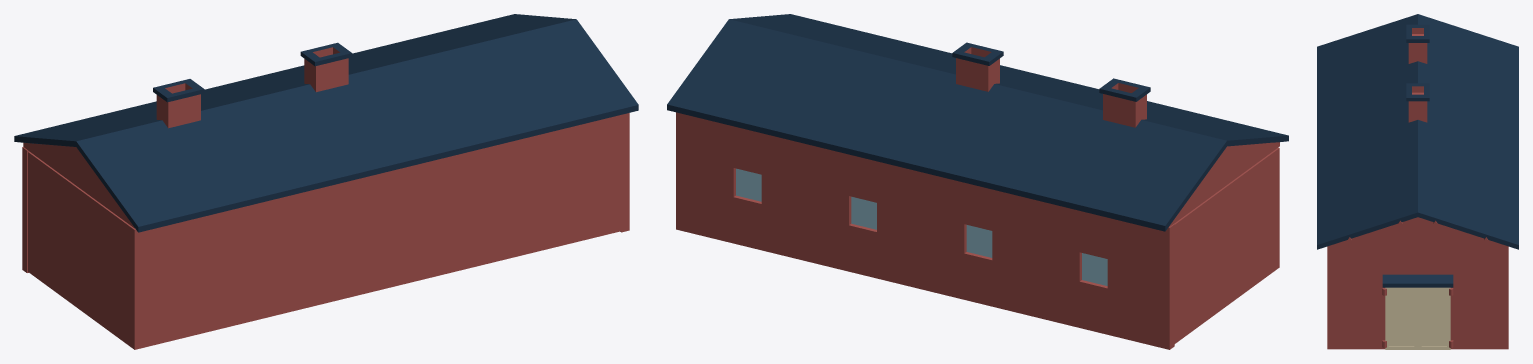
File: mesh_BarrackSpoon.fbx
The picture shows the model from 3 angles, left to right: view 1: azimuth 30°, elevation 25°; view 2: azimuth 150°, elevation 25°; view 3: azimuth 270°, elevation 25°; orthographic projection. The views are drawn at different scales.
Visible parts, largest first — view 1: mesh_BarrackSpoon; view 2: mesh_BarrackSpoon; view 3: mesh_BarrackSpoon.
Boxes of the visible parts, x1=… form: mesh_BarrackSpoon: x1=14, y1=14, x2=638, y2=349; mesh_BarrackSpoon: x1=667, y1=14, x2=1288, y2=349; mesh_BarrackSpoon: x1=1317, y1=14, x2=1518, y2=349.
Bounding box in the file's own units: 895 × 333 × 379.
